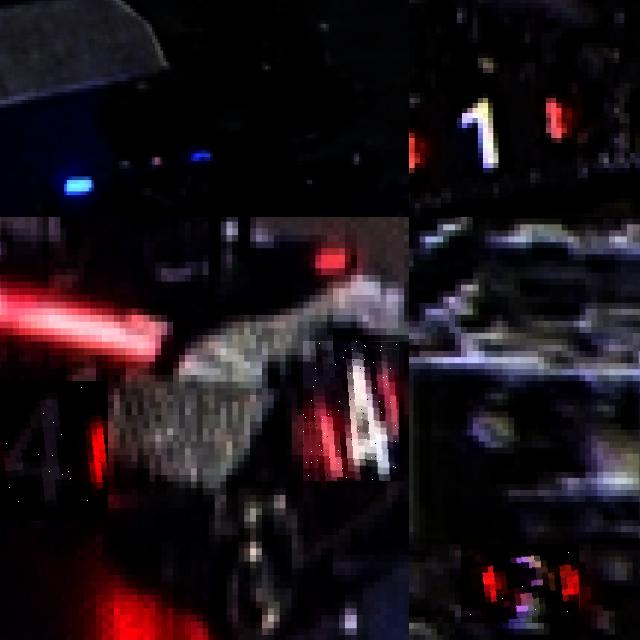R1: (409, 93, 572, 183)
R2: (461, 544, 579, 623)
R4: (0, 381, 108, 521), (303, 342, 399, 482)
